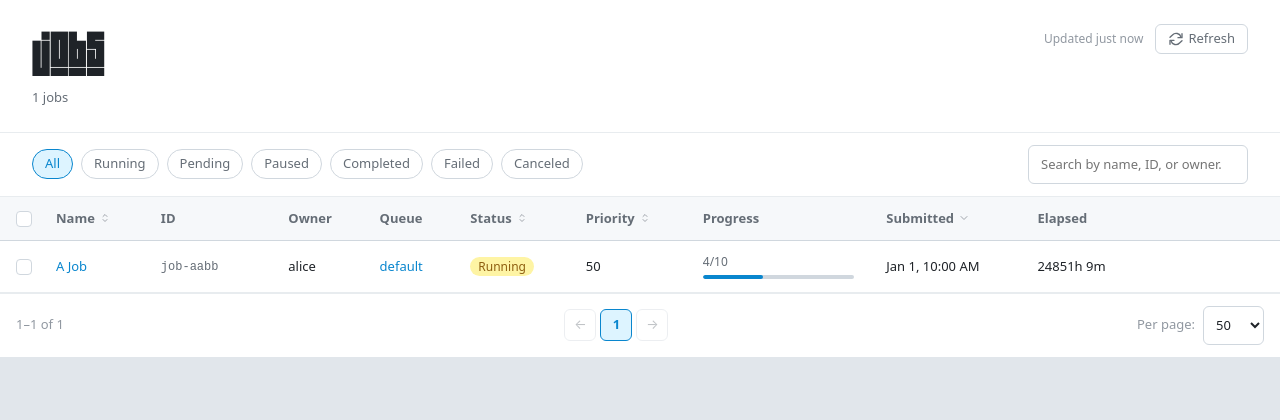
Test: JobList › bulk cancel › selecting a row shows the bulk action bar
Step 1. Click the checkbox named "Select job A Job" → (24, 267), box [16,259,32,275]
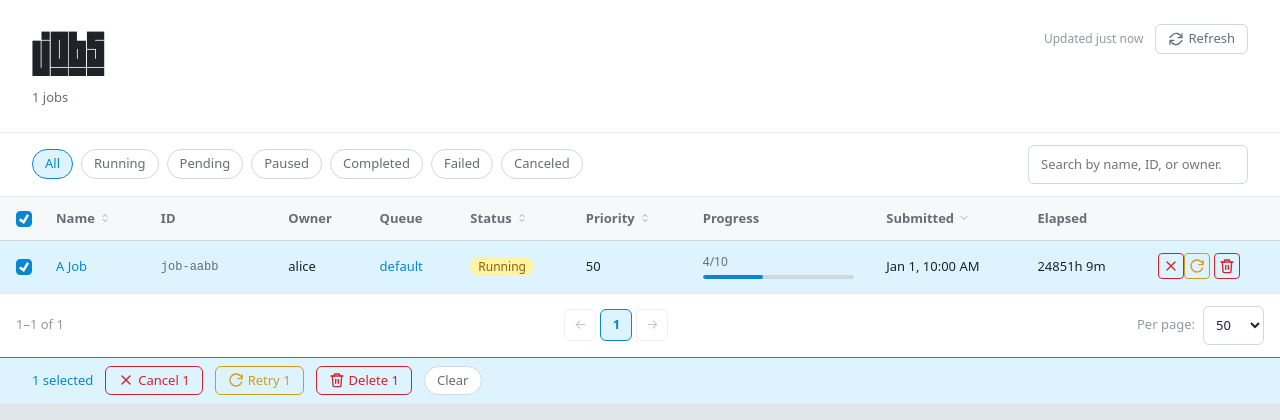
Check: the text "1 selected" is shown, box [32,370,93,390]
